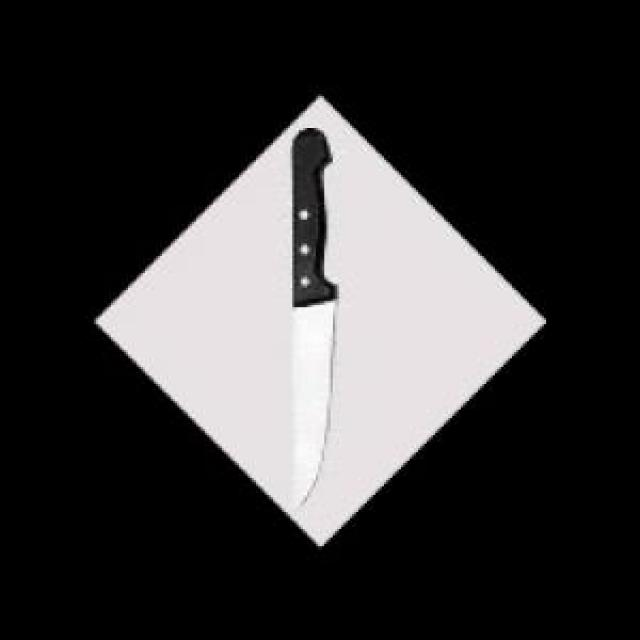knife: (284, 130, 342, 503)
